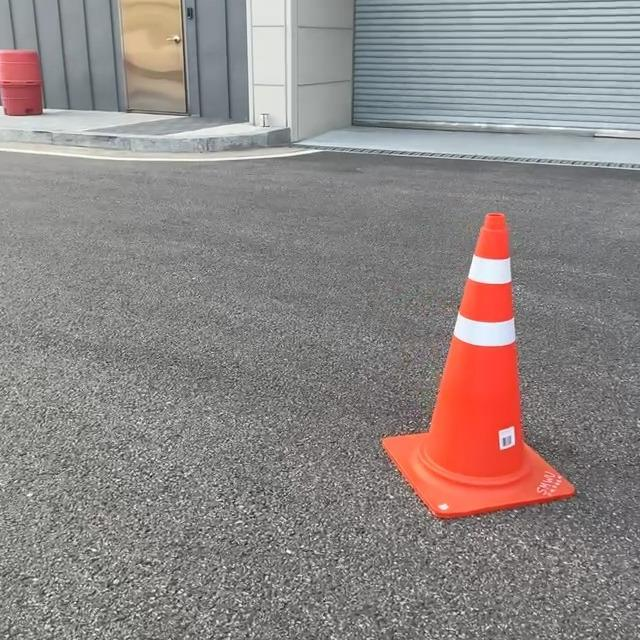fallen_object: (322, 222, 589, 522)
